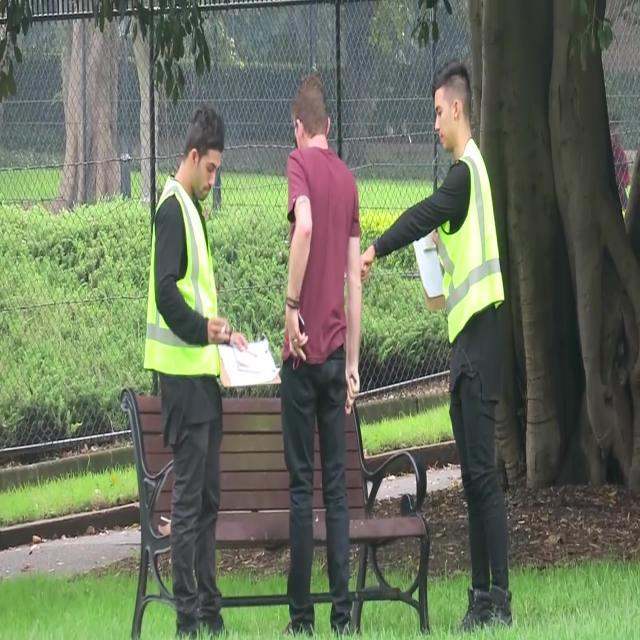reflective_jacket: (138, 173, 230, 390), (428, 138, 511, 348)
